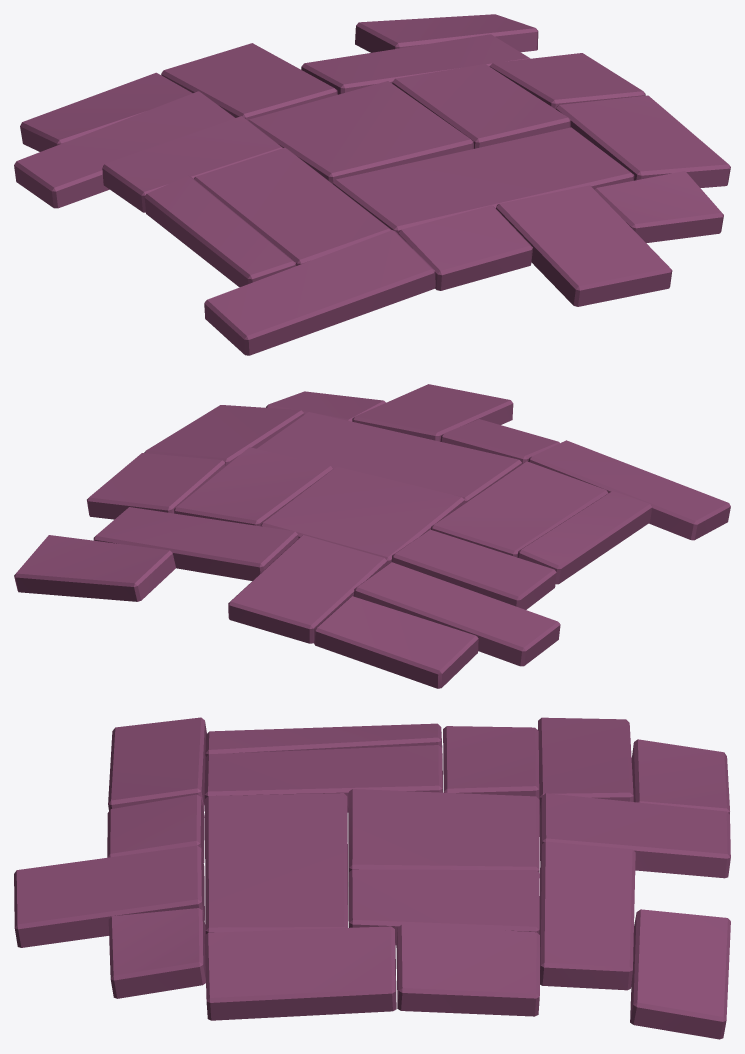
The model's file is SM_floorTiles01_low.fbx.
3 renders of one model, top to bottom at view 1: azimuth 30°, elevation 25°; view 2: azimuth 150°, elevation 25°; view 3: azimuth 270°, elevation 25°, orthographic. The views are drawn at different scales.
Visible parts, largest first — view 1: Plane.007; view 2: Plane.007; view 3: Plane.007.
Boxes of the visible parts, box(x1,y1,x2,y2) form: Plane.007: box(14, 14, 730, 355); Plane.007: box(14, 384, 730, 688); Plane.007: box(14, 717, 730, 1039).
Size of the model in its own units: 548 by 64.21 by 575.
